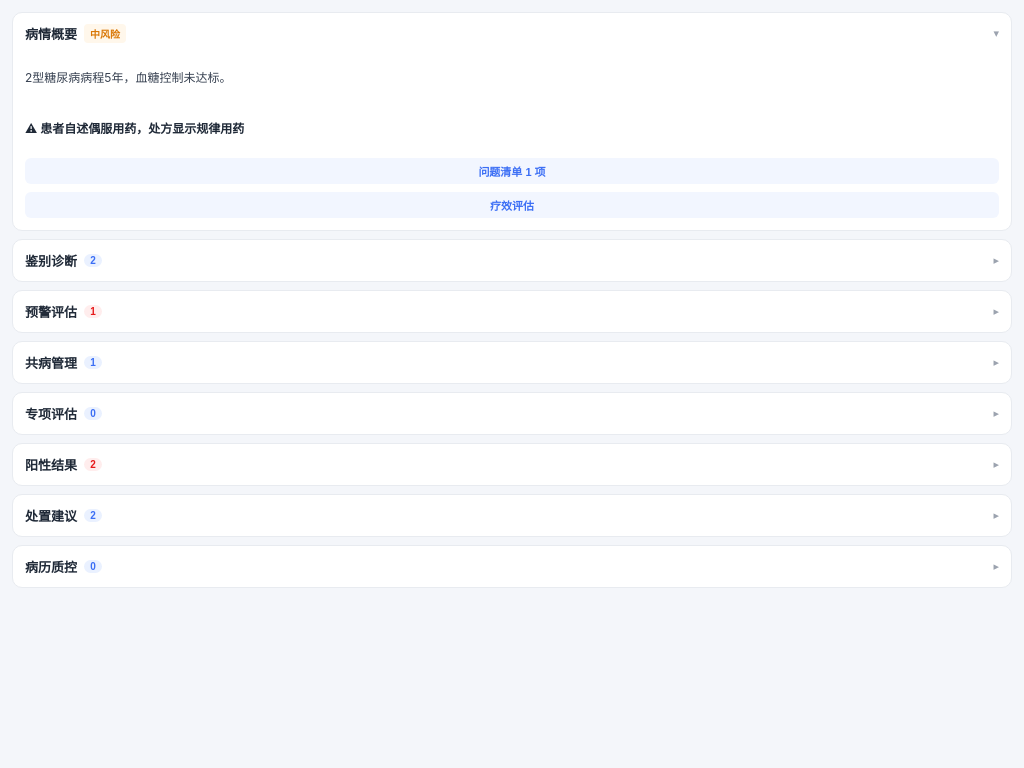
分析页 › 阳性结果只列异常项，检查在前检验在后
Click the button "阳性结果 2 ▸". click: click(51, 466)
box: [13,444,1011,485]
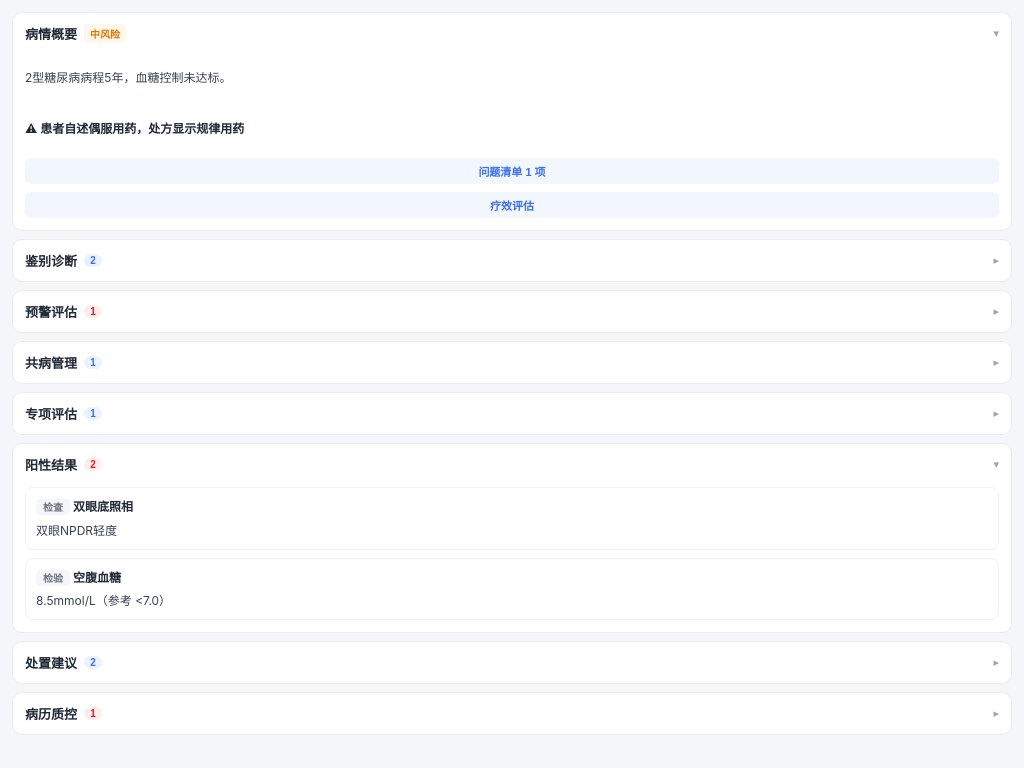
Check: the element showing "检查 双眼底照相 双眼NPDR轻度" is shown, box [25,487,999,550]
Check: the element showing "检验 空腹血糖 8.5mmol/L（参考 <7.0）" is shown, box [25,558,999,620]
